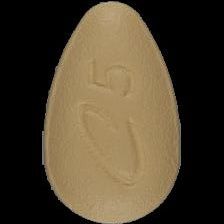63629-4601: (0, 0, 224, 224)
